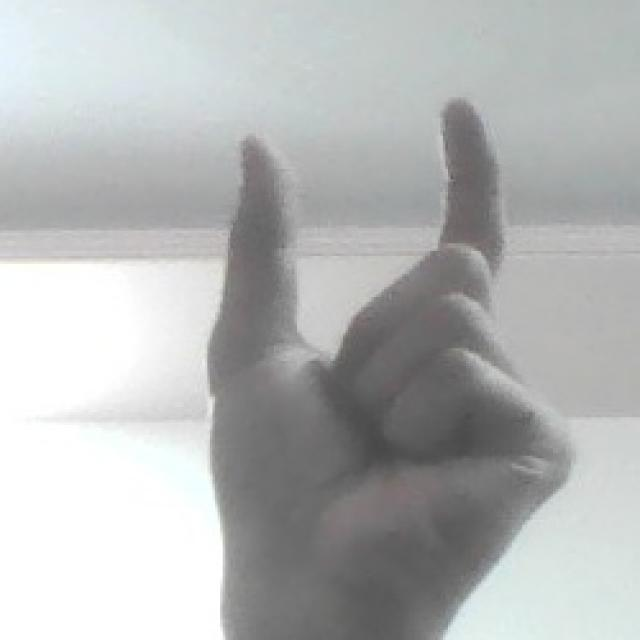Alphabet-U: (182, 84, 581, 640)
